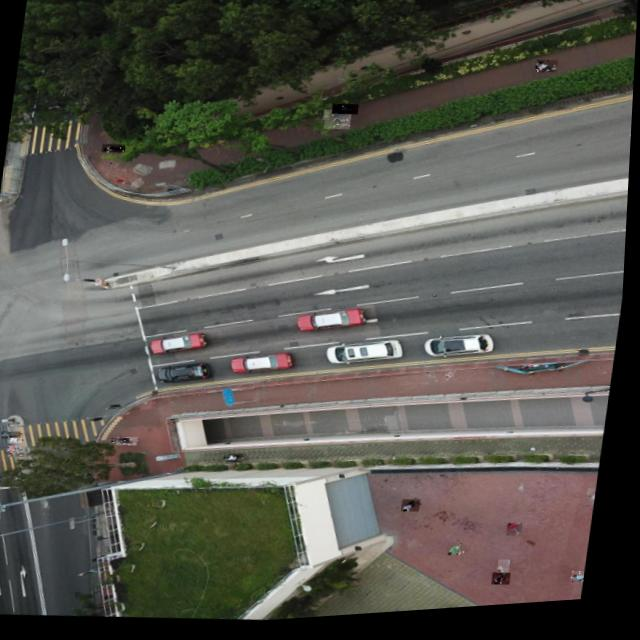Person: (324, 111, 354, 125), (325, 119, 352, 134), (332, 106, 360, 119), (536, 65, 559, 80), (406, 503, 426, 518), (498, 577, 517, 592), (102, 143, 127, 154), (120, 436, 142, 447), (512, 528, 528, 543), (454, 548, 471, 561), (576, 578, 591, 592), (503, 565, 517, 580), (6, 429, 27, 439), (230, 455, 249, 466), (12, 448, 31, 457), (11, 444, 29, 452), (116, 437, 134, 445), (452, 609, 471, 615), (13, 436, 27, 443), (230, 457, 238, 463)
